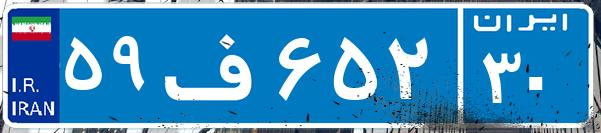0: (525, 38, 570, 115)
2: (385, 28, 445, 110)
3: (475, 38, 525, 113)
5: (330, 28, 385, 110), (57, 26, 110, 107)
6: (273, 28, 330, 110)
9: (110, 28, 158, 105)
ف: (158, 15, 273, 115)
